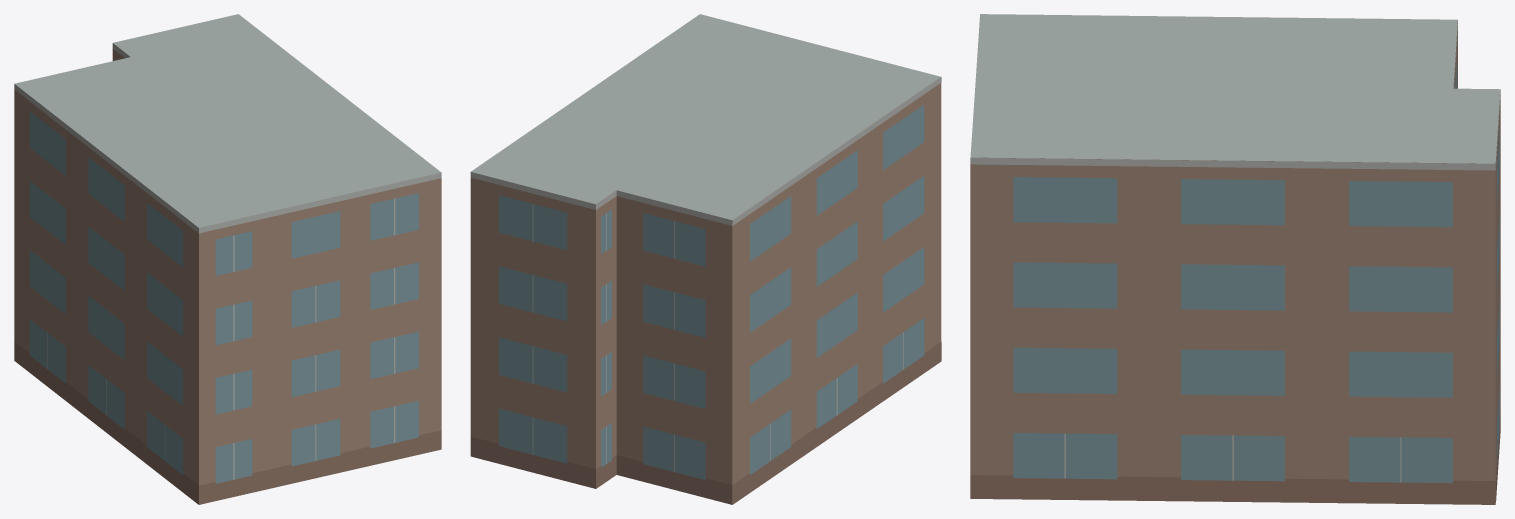
The model's file is residential-b13154d0-a70a-416d-a911-60c21fce0ded.glb.
The picture shows the model from 3 angles, left to right: view 1: azimuth 30°, elevation 25°; view 2: azimuth 150°, elevation 25°; view 3: azimuth 270°, elevation 25°; orthographic projection. The views are drawn at different scales.
Parts seen in each view (by area): view 1: residential-b13154d0-a70a-416d-a911-60c21fce0ded.tmp; view 2: residential-b13154d0-a70a-416d-a911-60c21fce0ded.tmp; view 3: residential-b13154d0-a70a-416d-a911-60c21fce0ded.tmp.
Boxes of the visible parts, box(x1,y1,x2,y2) form: residential-b13154d0-a70a-416d-a911-60c21fce0ded.tmp: box(14, 14, 441, 504); residential-b13154d0-a70a-416d-a911-60c21fce0ded.tmp: box(470, 14, 941, 504); residential-b13154d0-a70a-416d-a911-60c21fce0ded.tmp: box(970, 14, 1500, 504).
Bounding box in the file's own units: 11.49 × 12.2 × 17.19.
